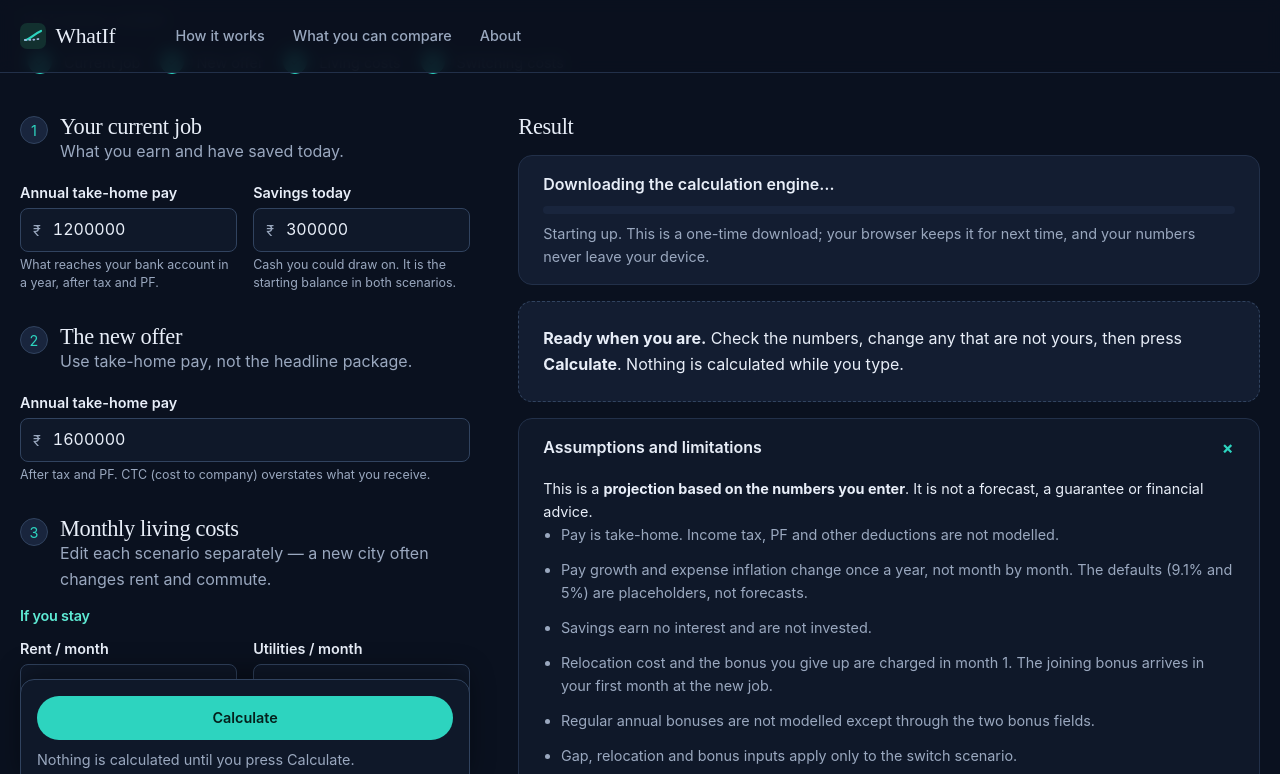
decision workspace › submits with the Enter key from an input
(page scrolled)
Clear the field labelled "Annual take-home pay" below "The new offer": x=261, y=440 [53,419,469,461]
(page scrolled)
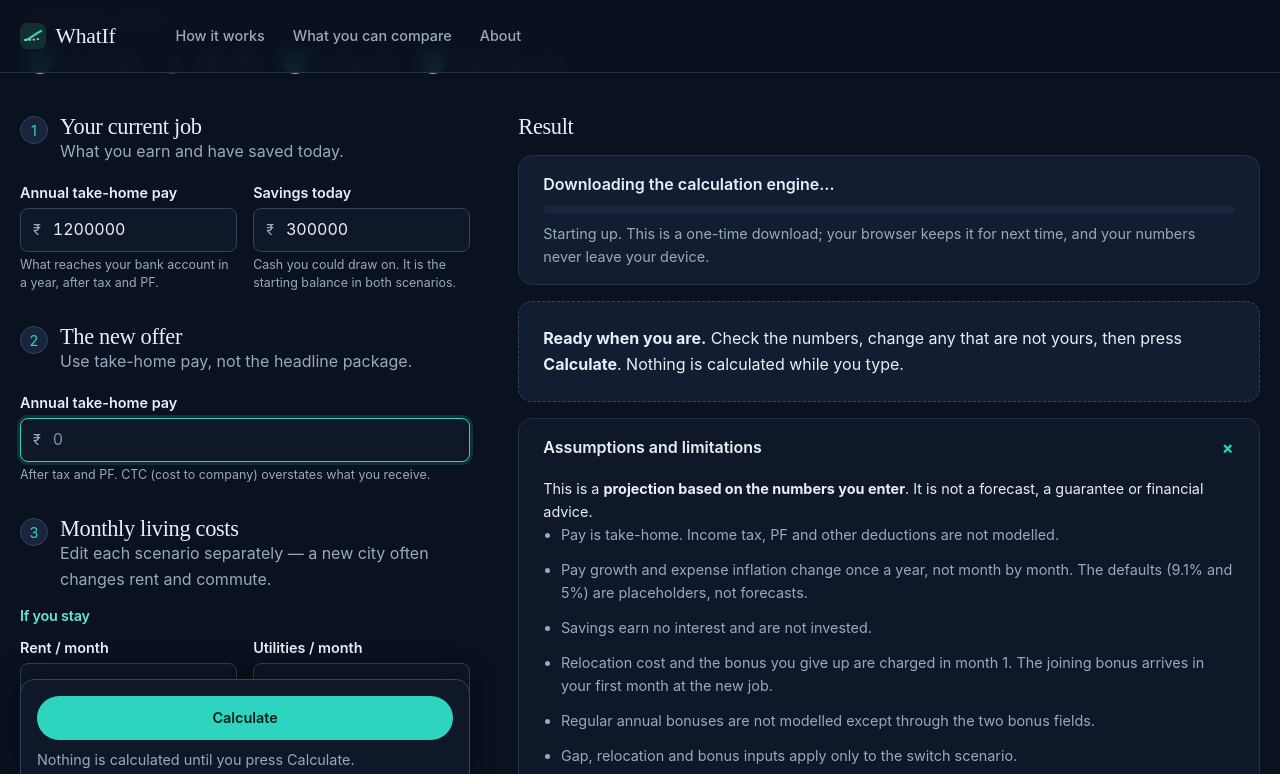
In the field labelled "Annual take-home pay" below "The new offer": x=261, y=440 [53,419,469,461], type "1750000"
Then press Enter
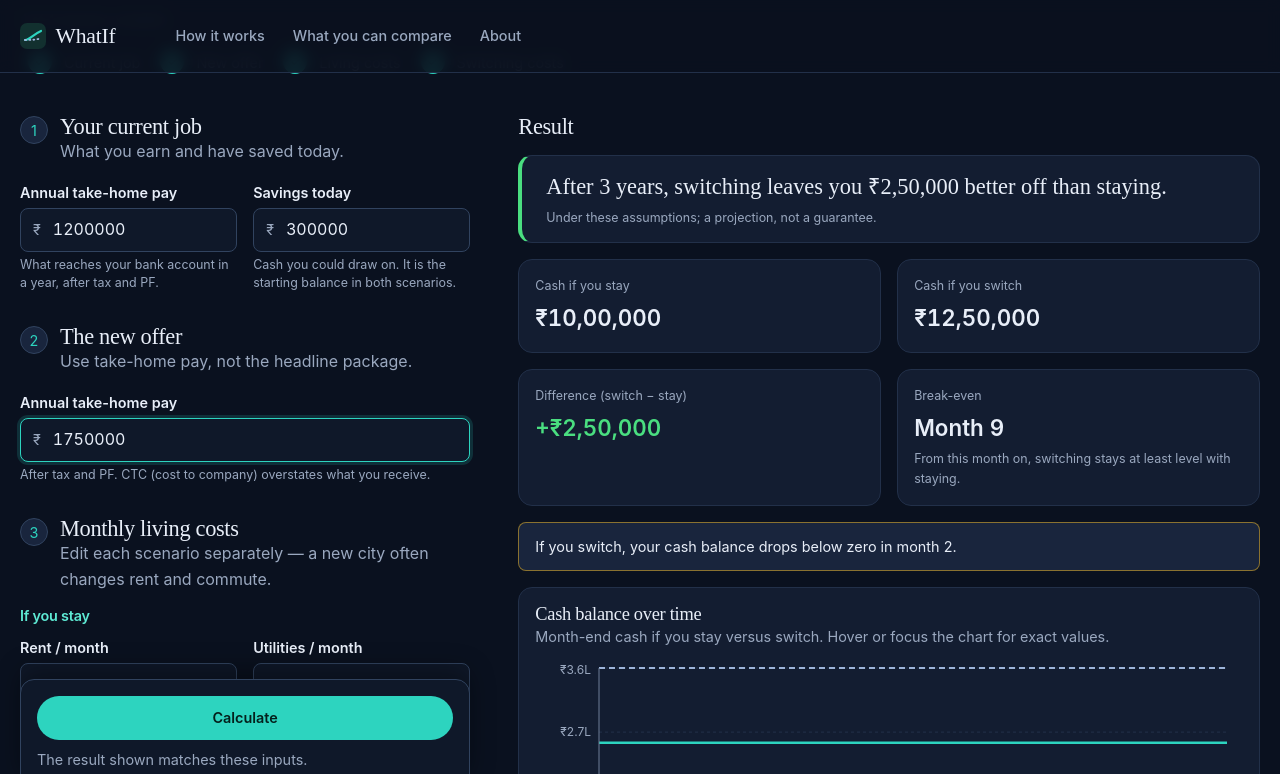
Expected: the text "better off" is shown, [546,174,1167,199]
